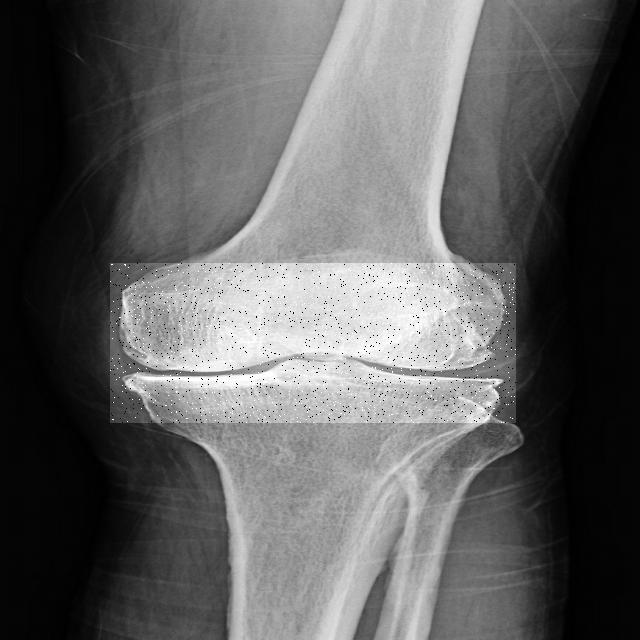osteo: (110, 263, 516, 423)
